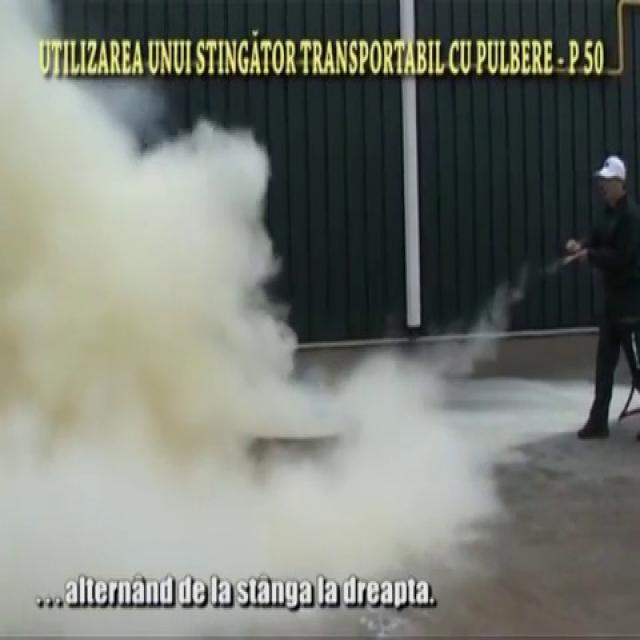Smoke: (1, 1, 396, 484)
